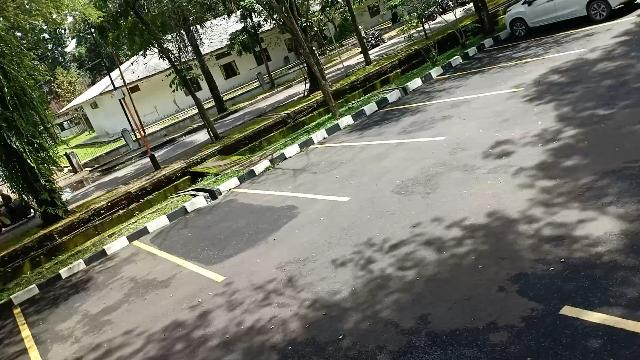empty: (25, 252, 191, 360), (172, 190, 314, 278), (282, 142, 418, 200), (352, 103, 454, 143), (418, 65, 522, 101)
